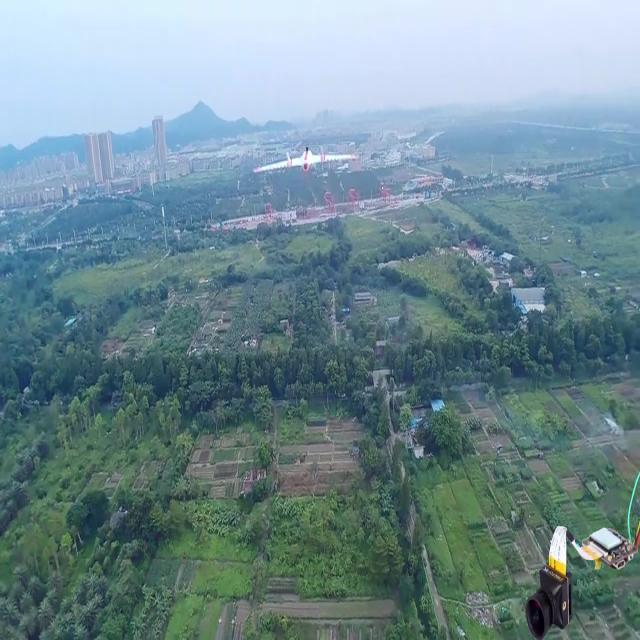iha: (285, 146, 327, 173)
